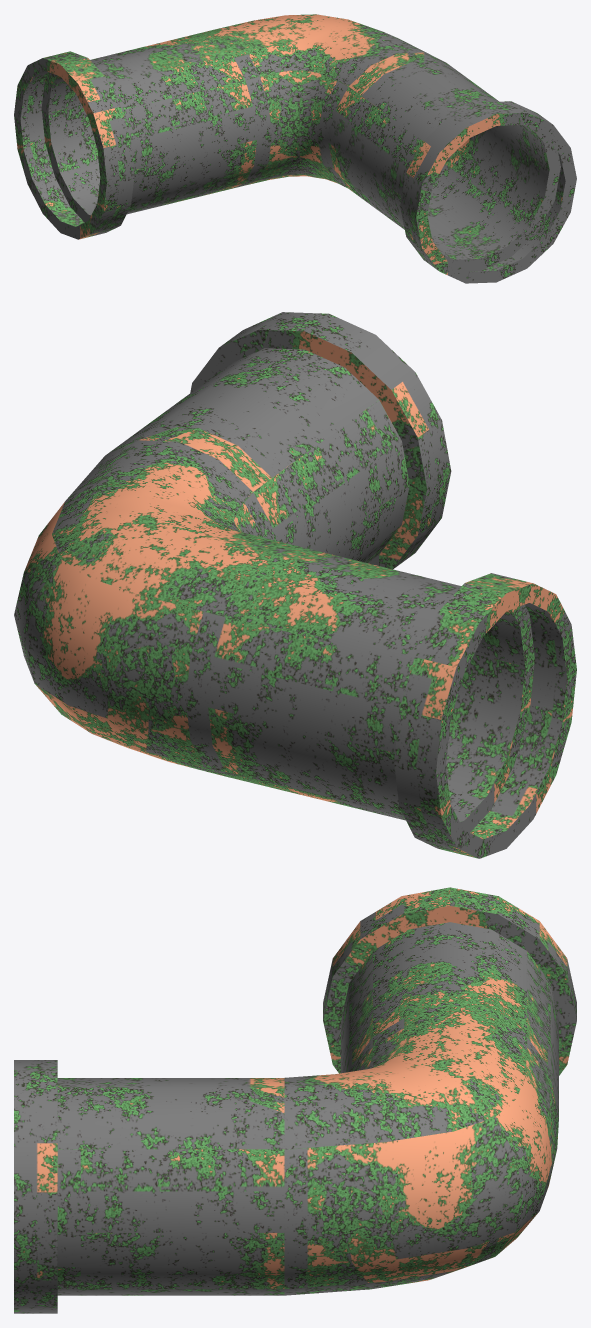
File: Pipe SW NoHandle.fbx
3 views of the same model, one above another, from view 1: azimuth 30°, elevation 25°; view 2: azimuth 150°, elevation 25°; view 3: azimuth 270°, elevation 25° (orthographic). The views are drawn at different scales.
Parts seen in each view (by area): view 1: Pipe SW NoHandle_Baked; view 2: Pipe SW NoHandle_Baked; view 3: Pipe SW NoHandle_Baked.
Boxes of the visible parts, x1,y1,x2,y2 form: Pipe SW NoHandle_Baked: [14, 14, 576, 283]; Pipe SW NoHandle_Baked: [14, 312, 576, 858]; Pipe SW NoHandle_Baked: [14, 887, 576, 1313].
Size of the model in its own units: 64.56 by 29.11 by 64.56.
1 material, 1 textured.
